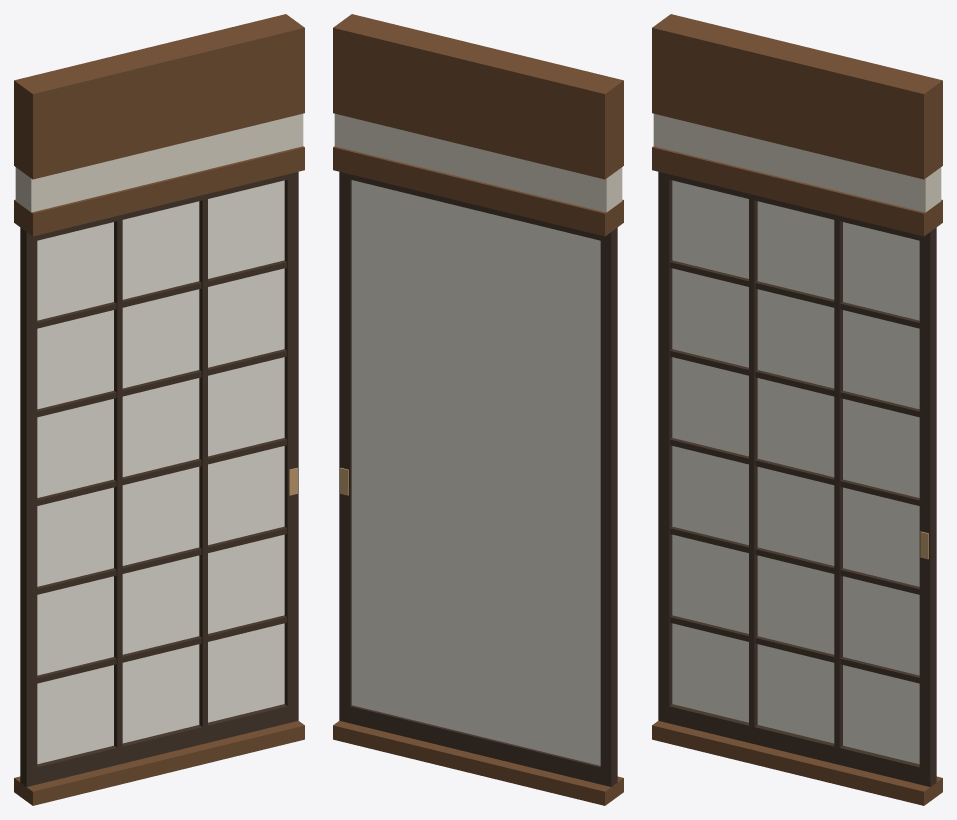
Rendered from sakura_door_shoji_1m.glb.
3 renders of one model, left to right at view 1: azimuth 30°, elevation 25°; view 2: azimuth 150°, elevation 25°; view 3: azimuth 330°, elevation 25°, orthographic.
Parts seen in each view (by area): view 1: sakura_door_shoji_1m; view 2: sakura_door_shoji_1m; view 3: sakura_door_shoji_1m.
Part boxes in pixels (box(x1,y1,x2,y2)): sakura_door_shoji_1m: box(14, 14, 304, 805); sakura_door_shoji_1m: box(333, 14, 623, 805); sakura_door_shoji_1m: box(652, 14, 942, 805).
Size of the model in its own units: 1 by 2.5 by 0.12.
Materials: 1 (1 with a texture image).
